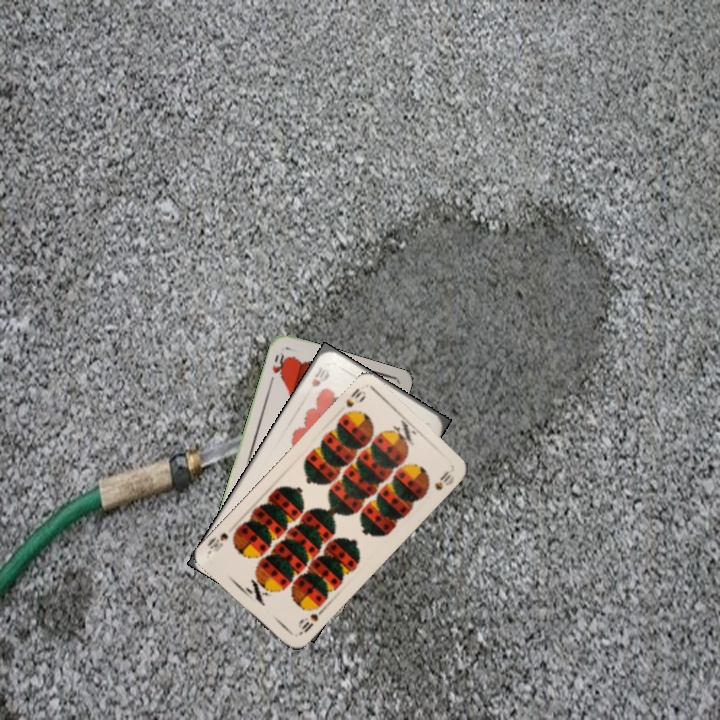H10: (307, 362, 332, 389)
HO: (266, 348, 290, 387)
S10: (338, 384, 369, 419), (294, 605, 326, 638)
